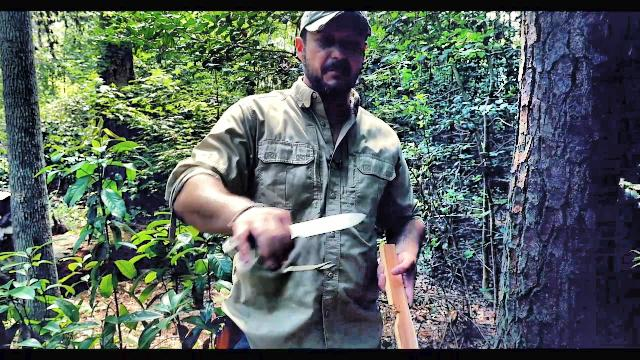knife: (244, 207, 376, 268)
